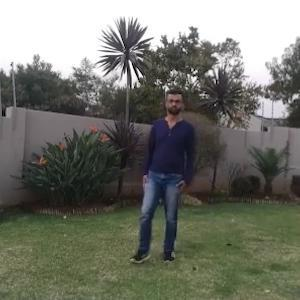follow: (144, 94, 189, 246)
